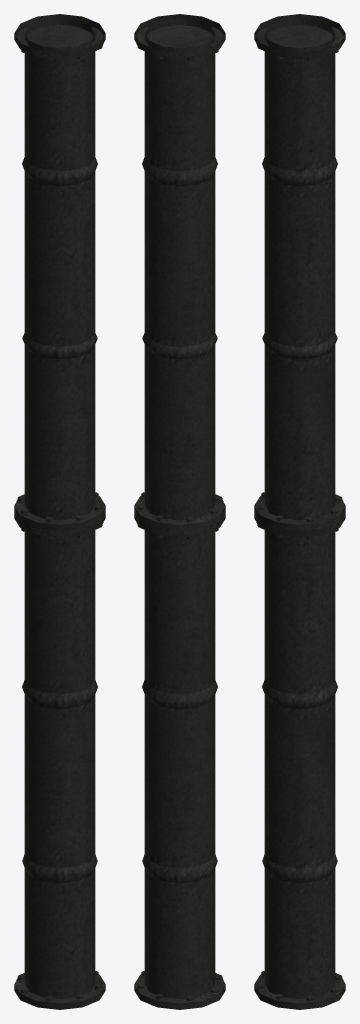
Rendered from pipe_1.fbx.
The picture shows the model from 3 angles, left to right: view 1: azimuth 30°, elevation 25°; view 2: azimuth 150°, elevation 25°; view 3: azimuth 330°, elevation 25°; orthographic projection.
Parts seen in each view (by area): view 1: pipe_1; view 2: pipe_1; view 3: pipe_1.
Part boxes in pixels (bbox=[...]): pipe_1: bbox=[14, 14, 105, 1009]; pipe_1: bbox=[134, 14, 225, 1009]; pipe_1: bbox=[254, 14, 345, 1009].
Size of the model in its own units: 0.26 by 0.26 by 3.
